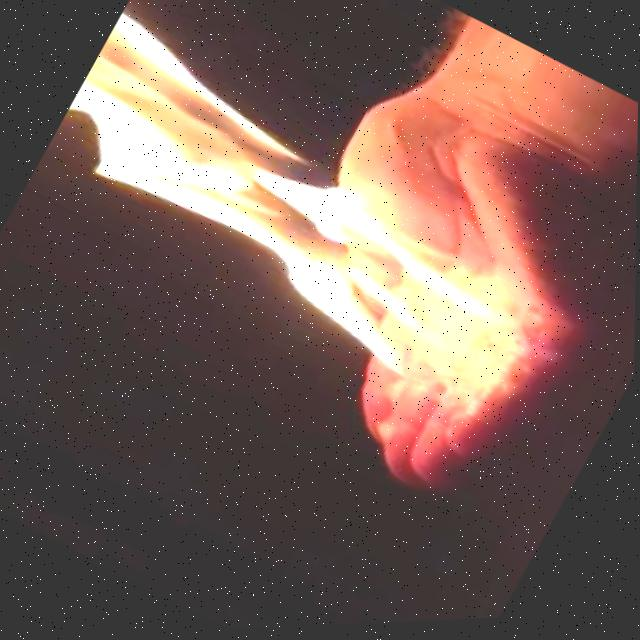Fire: (21, 0, 564, 432)
